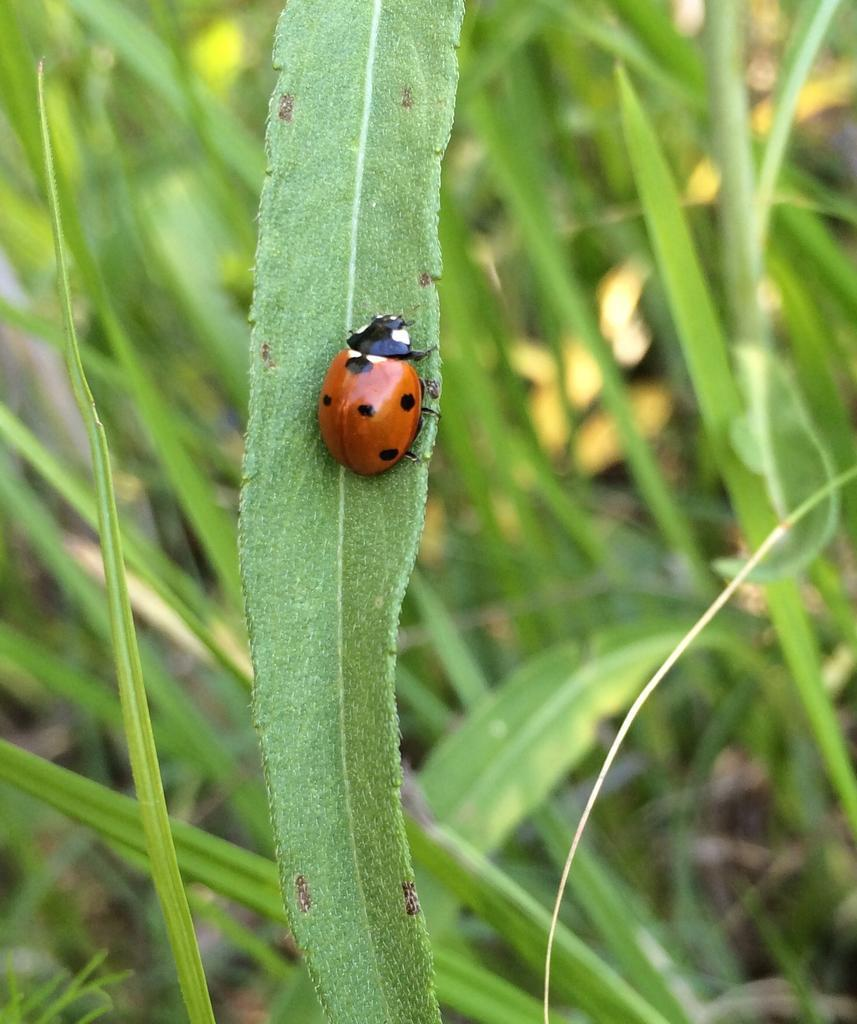ladybug: (314, 309, 449, 481)
